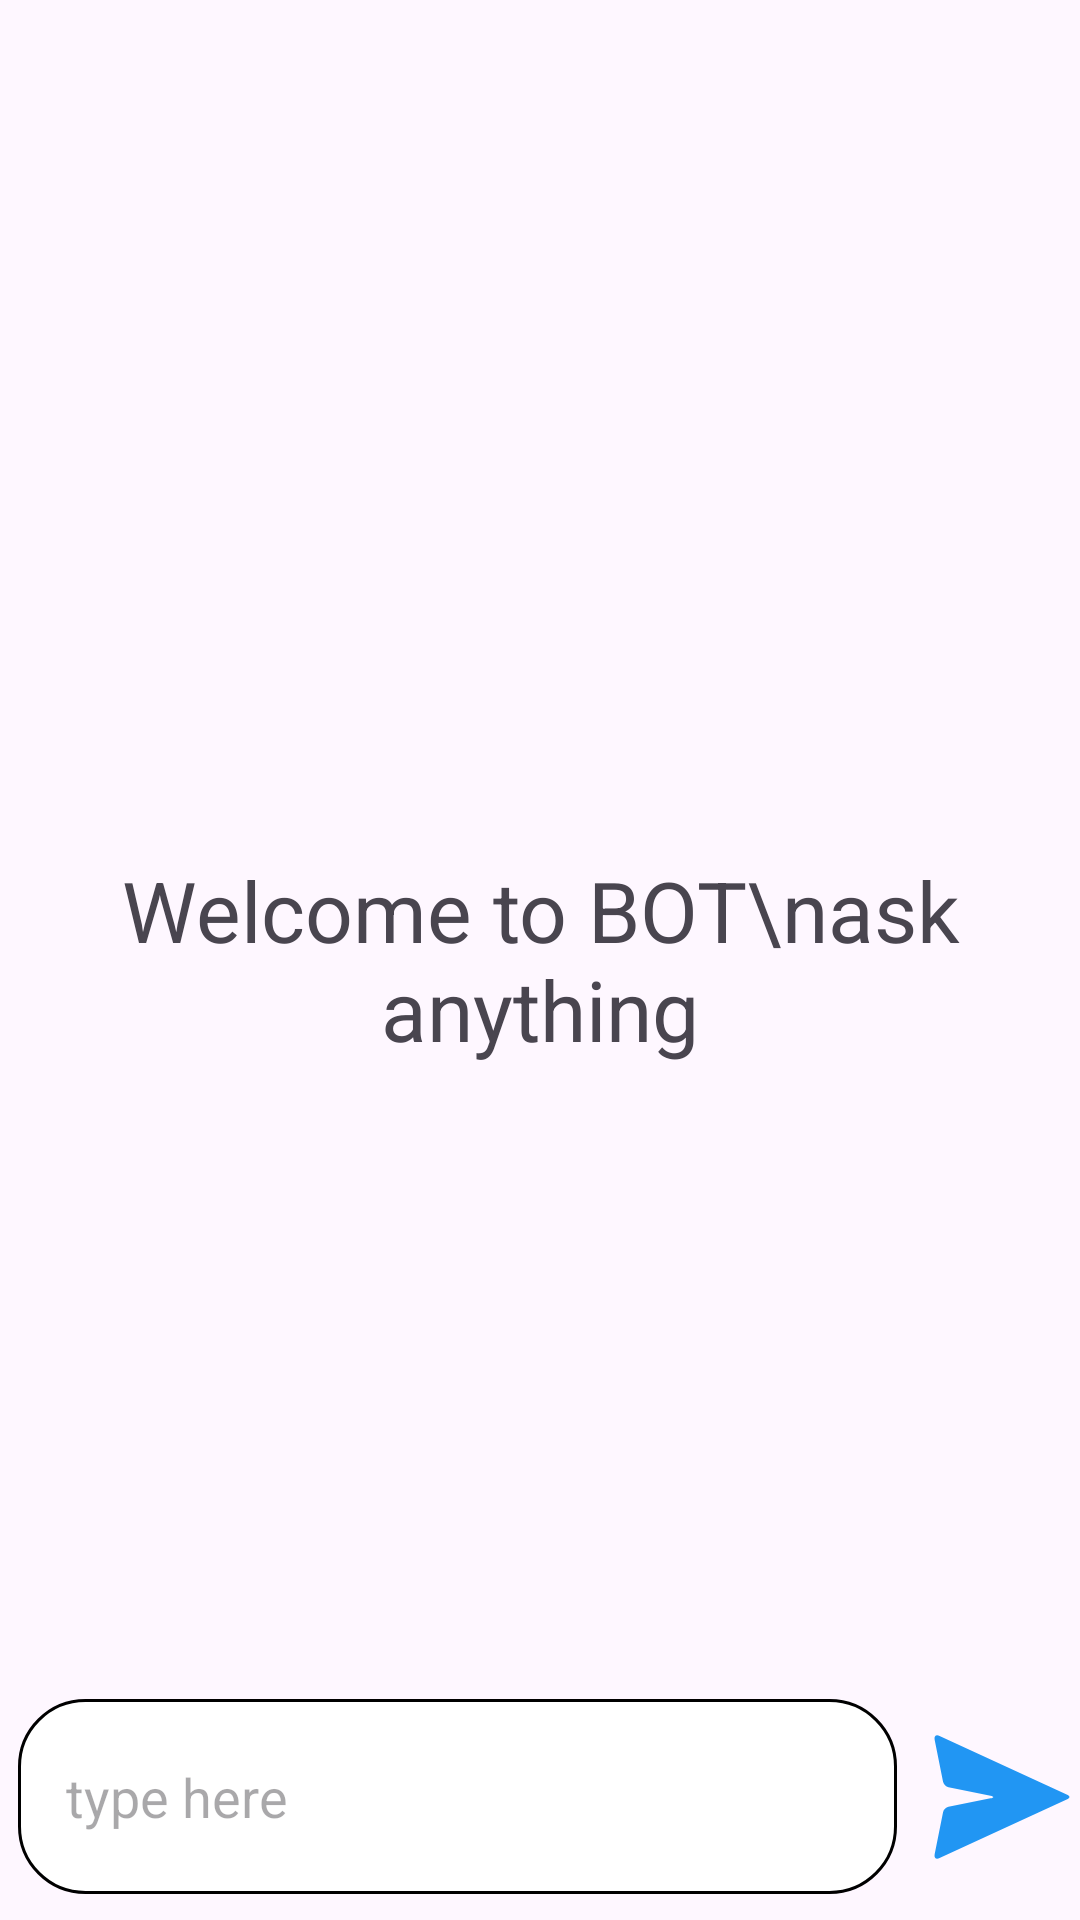

Point at icon controls on the screen. Image size 1080 × 1920, points as (x=x, y=y).
send: (x=1002, y=1797)
